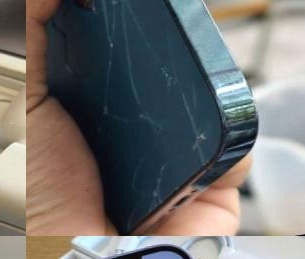physical_damage: (26, 0, 218, 232)
scratch: (202, 57, 277, 175)
